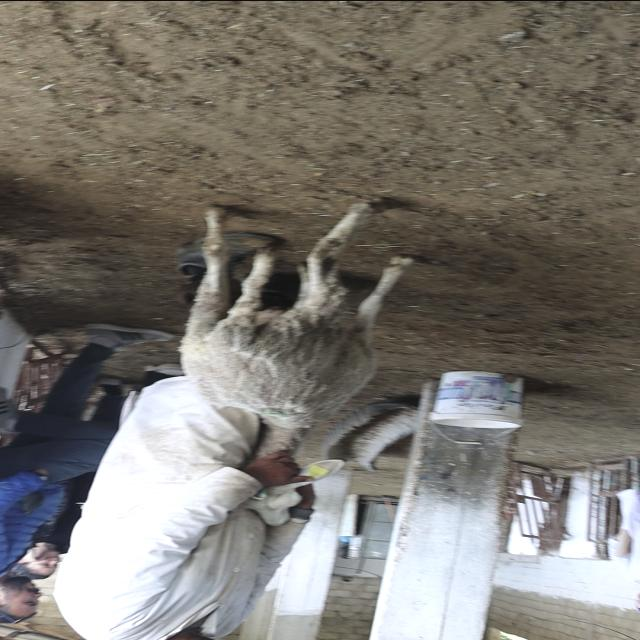Score_1: (180, 200, 415, 457)
